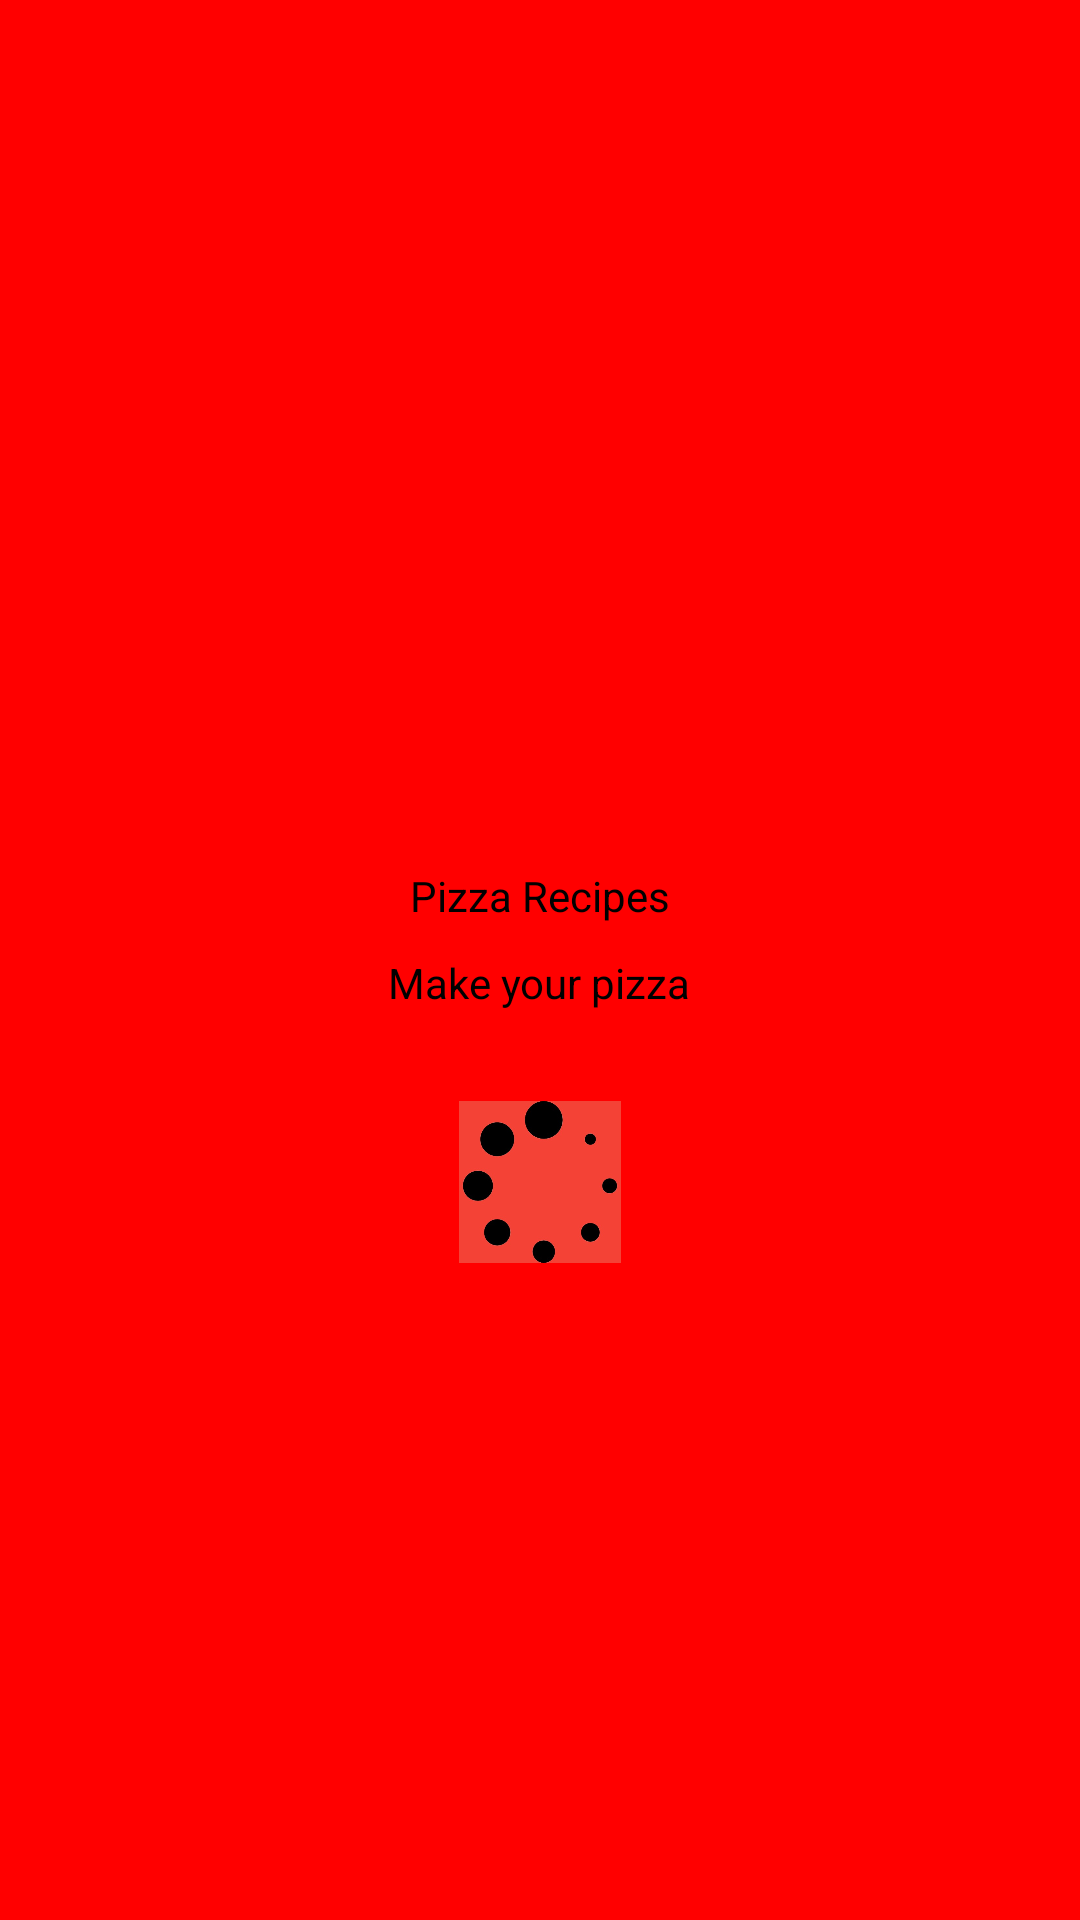

Screen size 1080 x 1920. Icon name, then its box in pixels as (x1, y1, x2, y2):
loading: (459, 1101, 621, 1263)
